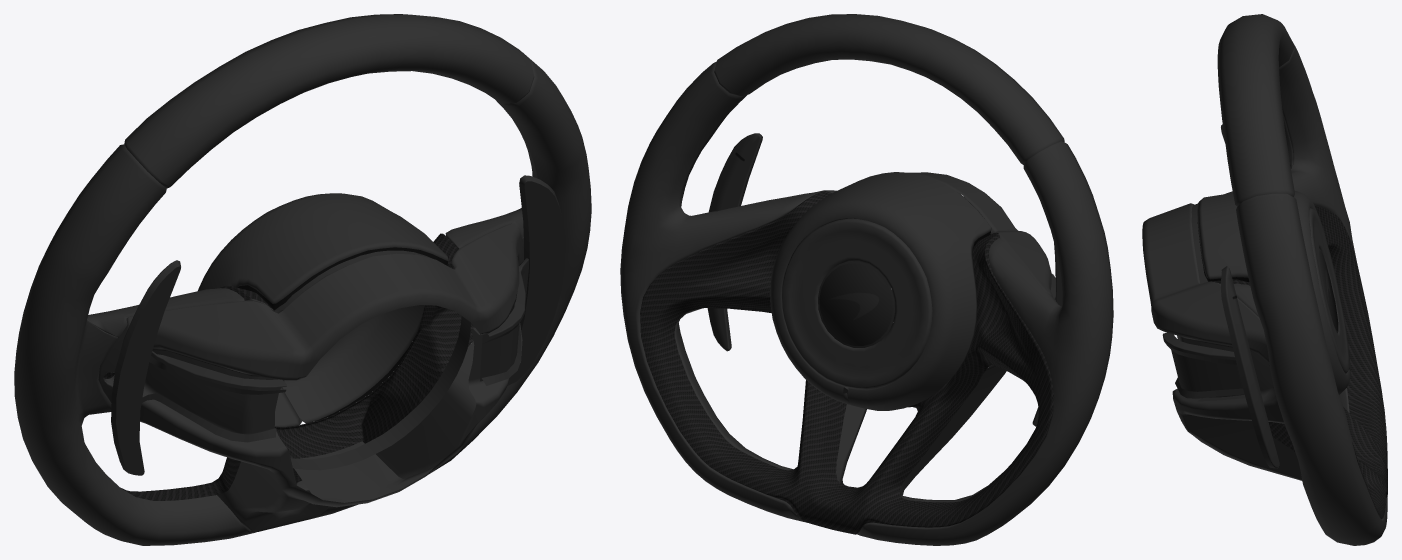
The model's file is steering.glb.
3 renders of one model, left to right at view 1: azimuth 30°, elevation 25°; view 2: azimuth 150°, elevation 25°; view 3: azimuth 270°, elevation 25°, orthographic. The views are drawn at different scales.
Visible parts, largest first — view 1: body:Kit0_Paint_Geo_lodABody_lodA_McLaren_Elva_2021Paint_Ma.; view 2: body:Kit0_Paint_Geo_lodABody_lodA_McLaren_Elva_2021Paint_Ma.; view 3: body:Kit0_Paint_Geo_lodABody_lodA_McLaren_Elva_2021Paint_Ma..
Boxes of the visible parts, x1,y1,x2,y2 form: body:Kit0_Paint_Geo_lodABody_lodA_McLaren_Elva_2021Paint_Ma.: [14, 14, 591, 545]; body:Kit0_Paint_Geo_lodABody_lodA_McLaren_Elva_2021Paint_Ma.: [620, 14, 1113, 545]; body:Kit0_Paint_Geo_lodABody_lodA_McLaren_Elva_2021Paint_Ma.: [1142, 14, 1387, 545].
Bounding box in the file's own units: 0.00362 × 0.00337 × 0.00163.
Materials: 4 (4 with a texture image).
